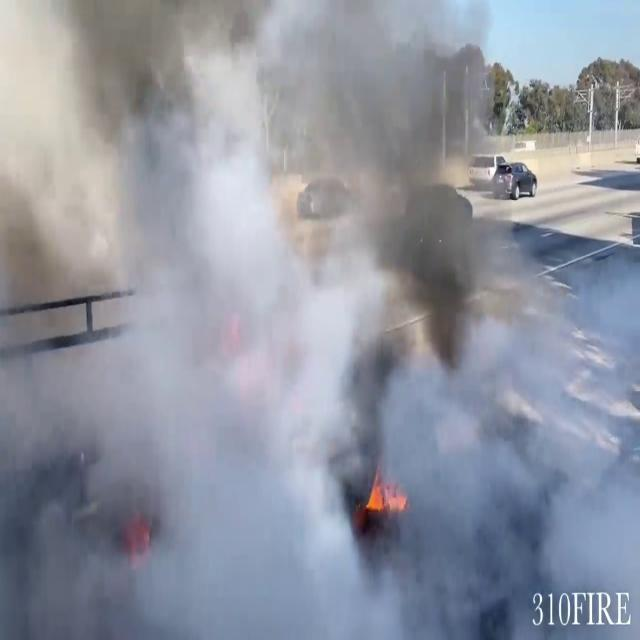Smoke: (1, 0, 634, 634)
